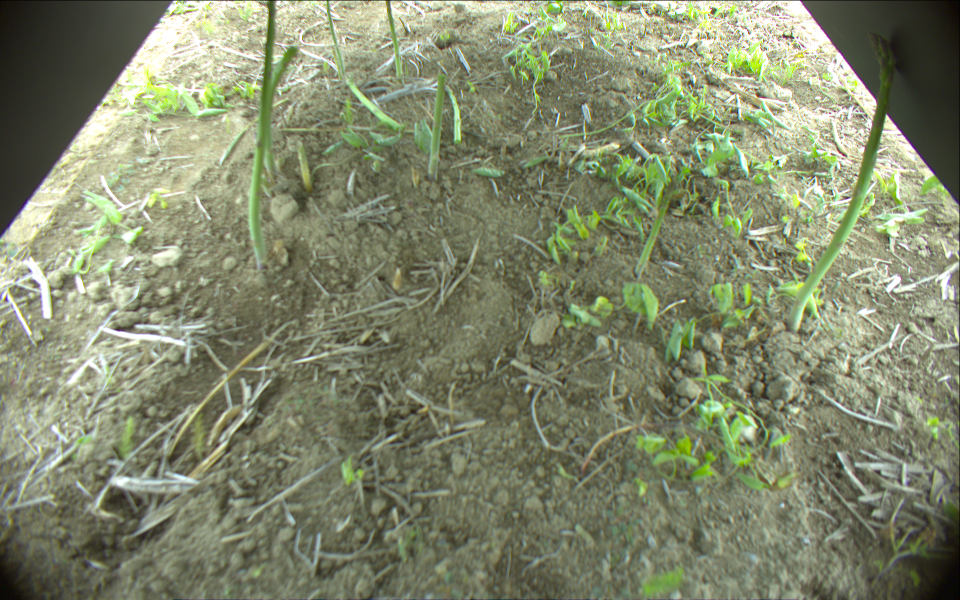aspa: (789, 31, 896, 330), (299, 47, 404, 130), (247, 1, 277, 269), (264, 46, 299, 181), (636, 174, 677, 276), (430, 71, 447, 180), (326, 1, 346, 82), (384, 1, 404, 79), (441, 84, 463, 145), (296, 141, 312, 191)
